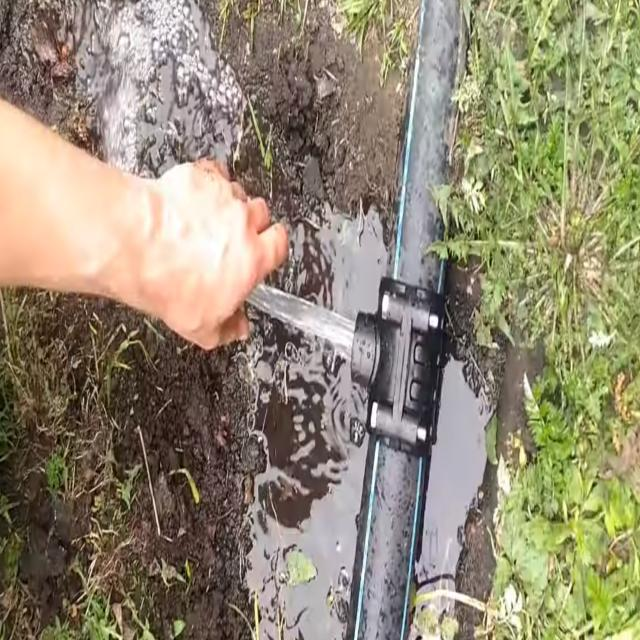leak: (248, 283, 355, 358)
